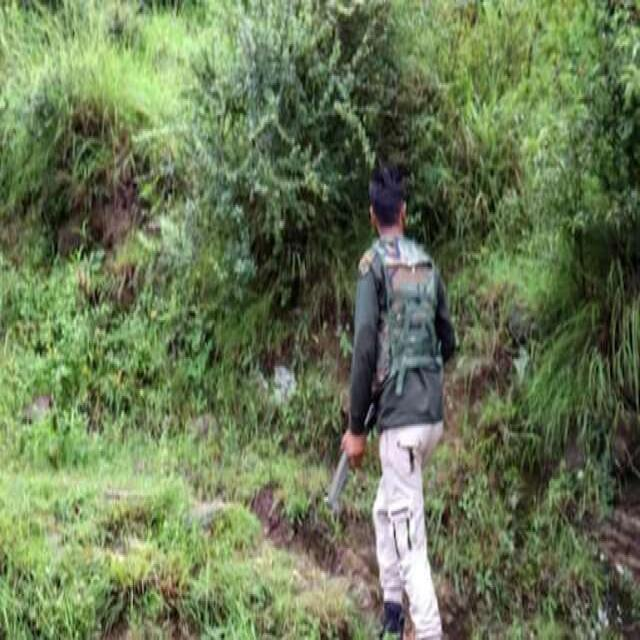Forest: (2, 3, 640, 640)
Militant: (329, 136, 500, 640)
